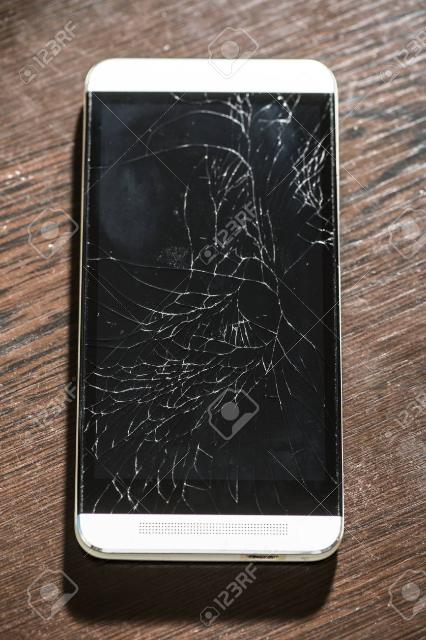Crack: (50, 55, 361, 564)
